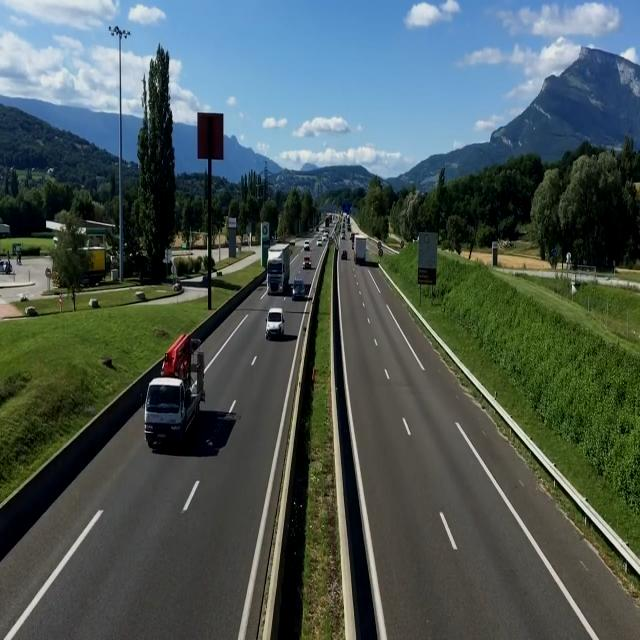Truck: (143, 332, 207, 449), (266, 242, 292, 295), (353, 234, 368, 264)
Van: (265, 308, 285, 340), (292, 280, 306, 300)
